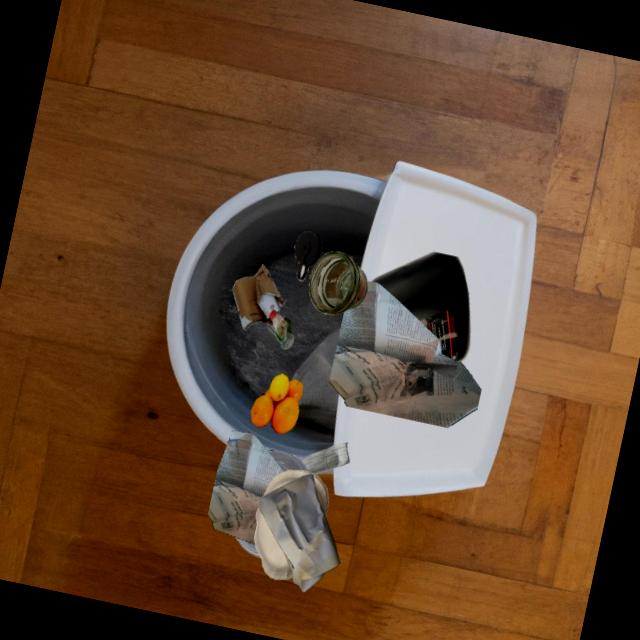biowaste: (250, 373, 302, 433)
cardboard: (232, 263, 286, 330)
glass: (309, 251, 367, 315)
paper: (329, 281, 481, 428), (256, 474, 340, 592), (207, 430, 283, 544), (263, 469, 328, 517), (254, 506, 292, 579), (299, 442, 349, 473)
plastic: (371, 251, 470, 362), (294, 231, 322, 281), (268, 309, 294, 349), (266, 449, 307, 471), (235, 537, 260, 557)
